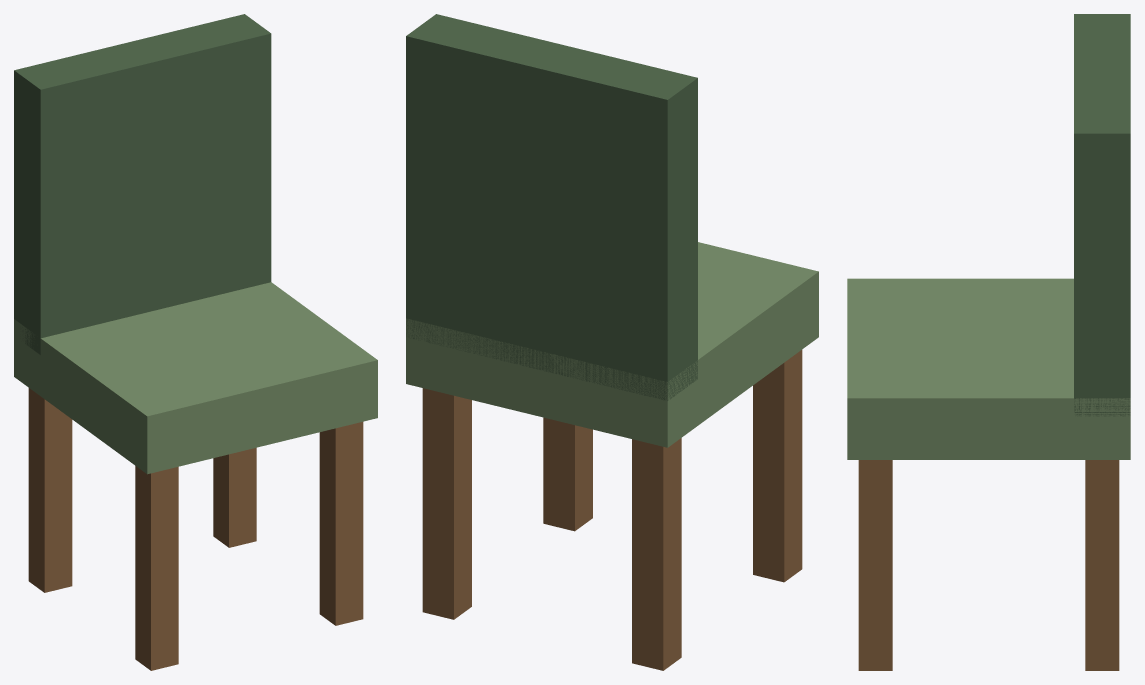
File: chair.glb
The picture shows the model from 3 angles, left to right: view 1: azimuth 30°, elevation 25°; view 2: azimuth 150°, elevation 25°; view 3: azimuth 270°, elevation 25°; orthographic projection. The views are drawn at different scales.
Bounding box in the file's own units: 0.5 × 1.06 × 0.5.
